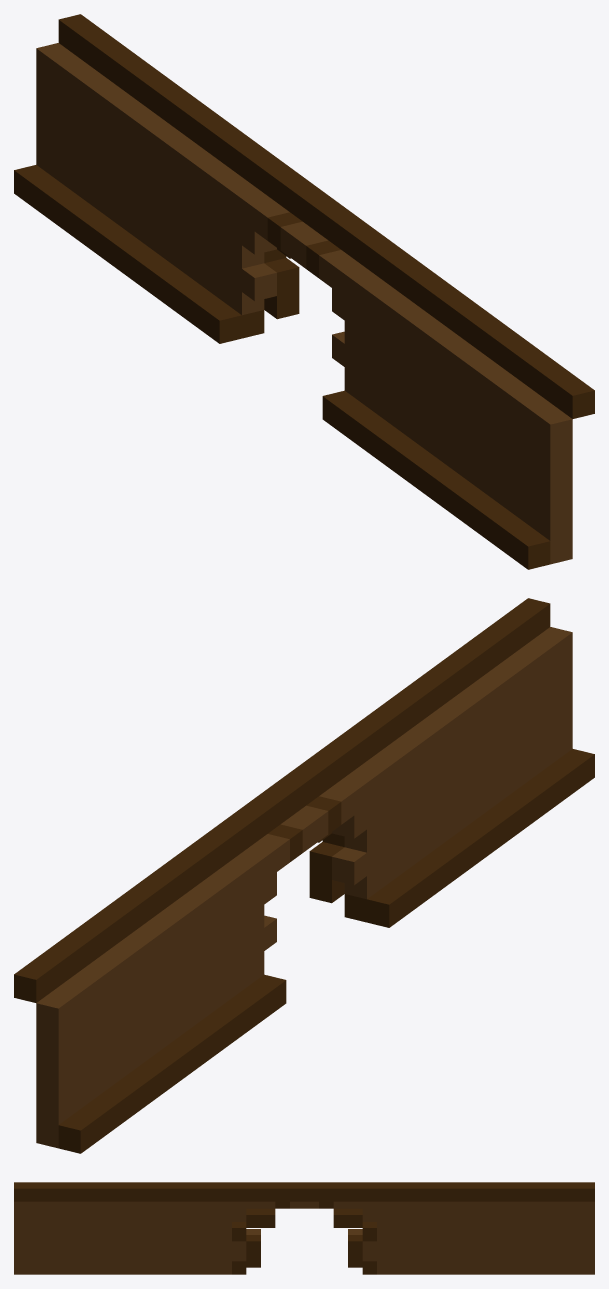
Rendered from madriguera.fbx.
3 views of the same model, one above another, from view 1: azimuth 30°, elevation 25°; view 2: azimuth 150°, elevation 25°; view 3: azimuth 270°, elevation 25° (orthographic). The views are drawn at different scales.
Visible parts, largest first — view 1: MadrigueraRaton.001; view 2: MadrigueraRaton.001; view 3: MadrigueraRaton.001.
Boxes of the visible parts, bbox=[...] form: MadrigueraRaton.001: bbox=[14, 14, 594, 569]; MadrigueraRaton.001: bbox=[14, 598, 594, 1153]; MadrigueraRaton.001: bbox=[14, 1182, 594, 1274].
Bounding box in the file's own units: 30 × 70 × 400.
